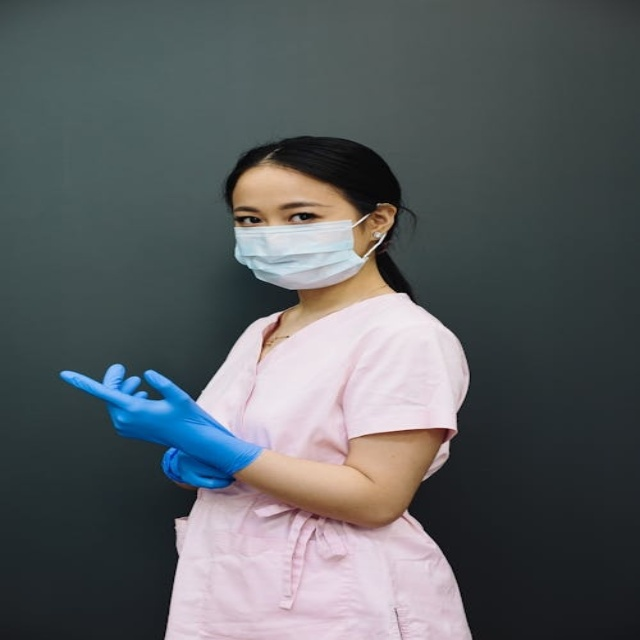Guantes: (55, 360, 271, 477), (162, 445, 247, 489)
Mascara: (233, 205, 384, 289)
Sin_gafas: (229, 201, 348, 224)
